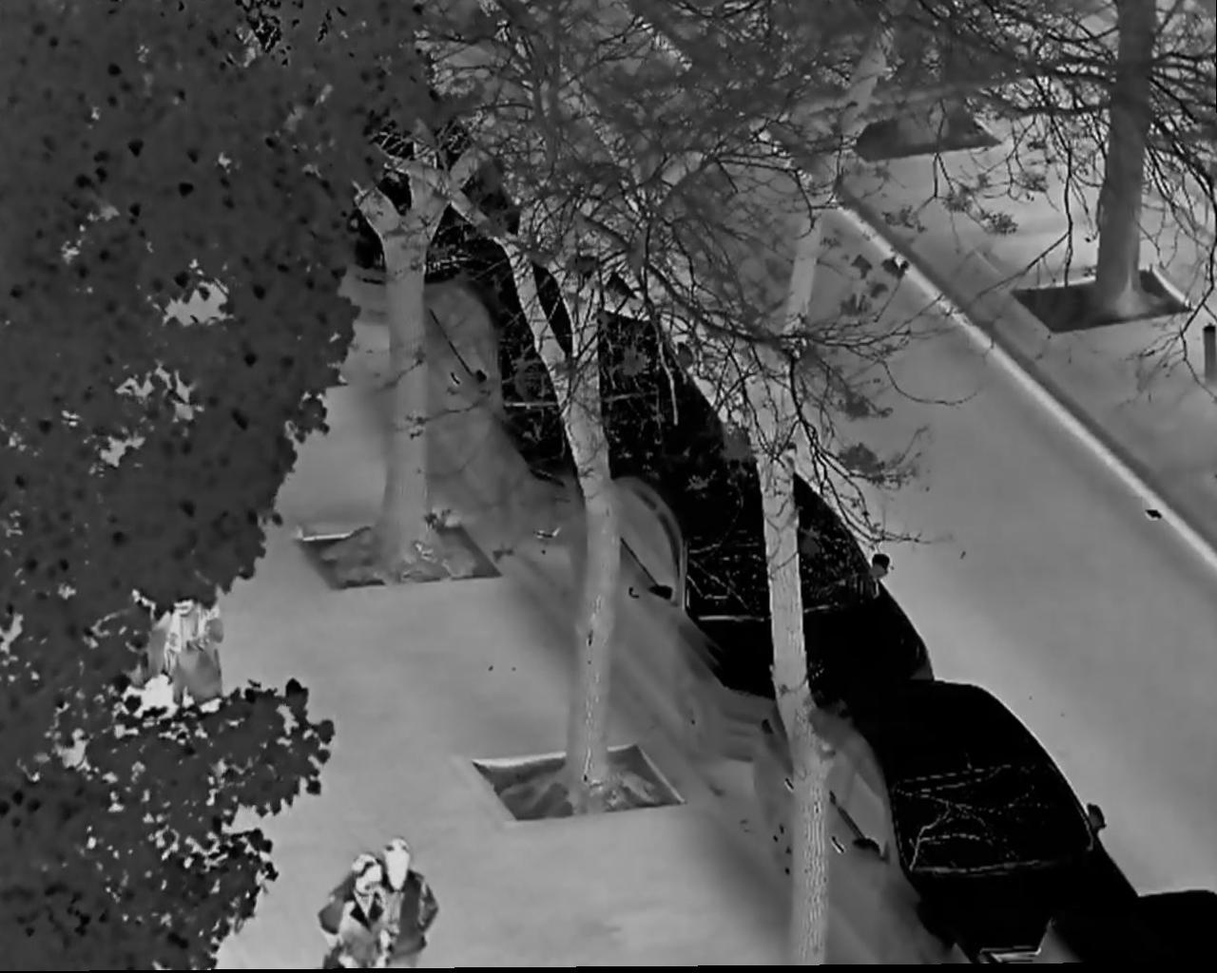person: (164, 560, 241, 745), (365, 831, 447, 973), (110, 555, 164, 743), (329, 856, 383, 970)
